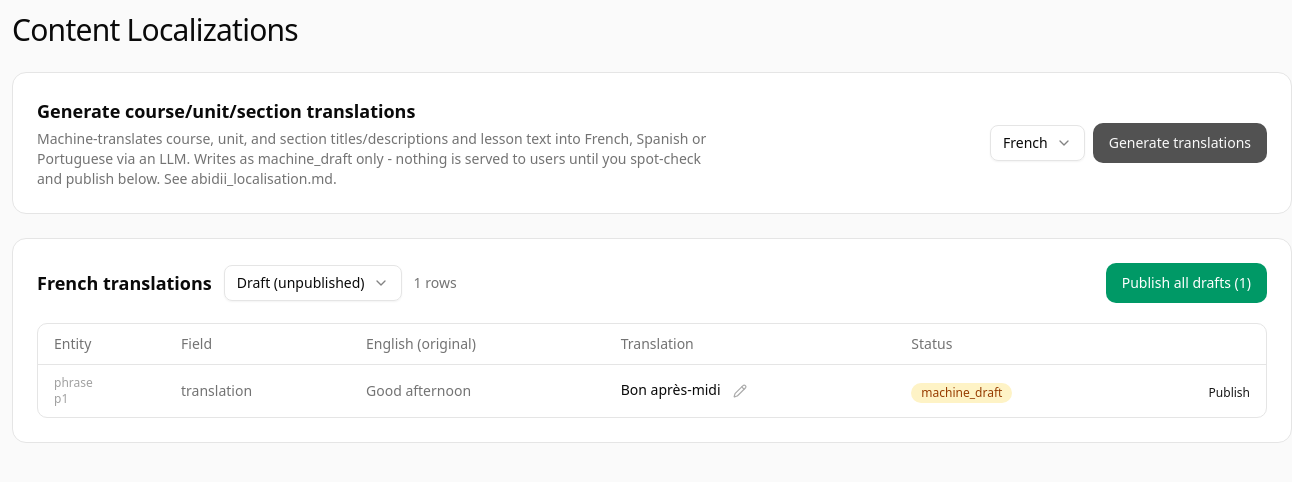
Scenario: edits a translation in place and keeps the row visible as reviewed
This screenshot has width=1292, height=482.
Expected: the text "Good afternoon" is shown, [350,364,605,417]
Click the button named "Edit translation".
click(740, 391)  # box [729,380,751,402]
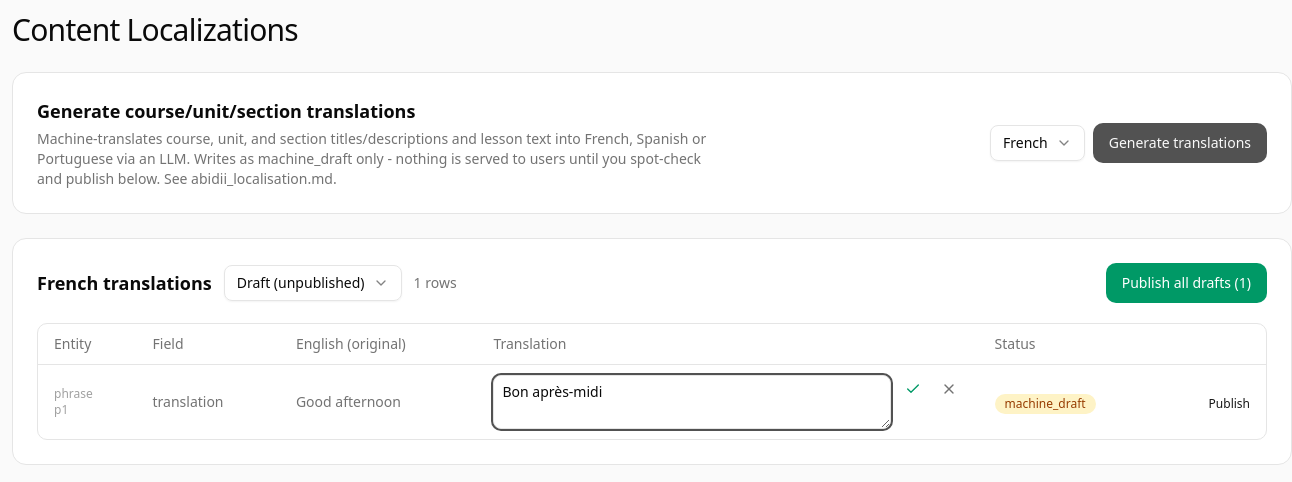
Replace the text in the text box named "Edit translation" with "Bonjour" at point(692, 402), box [493,375,890,429]
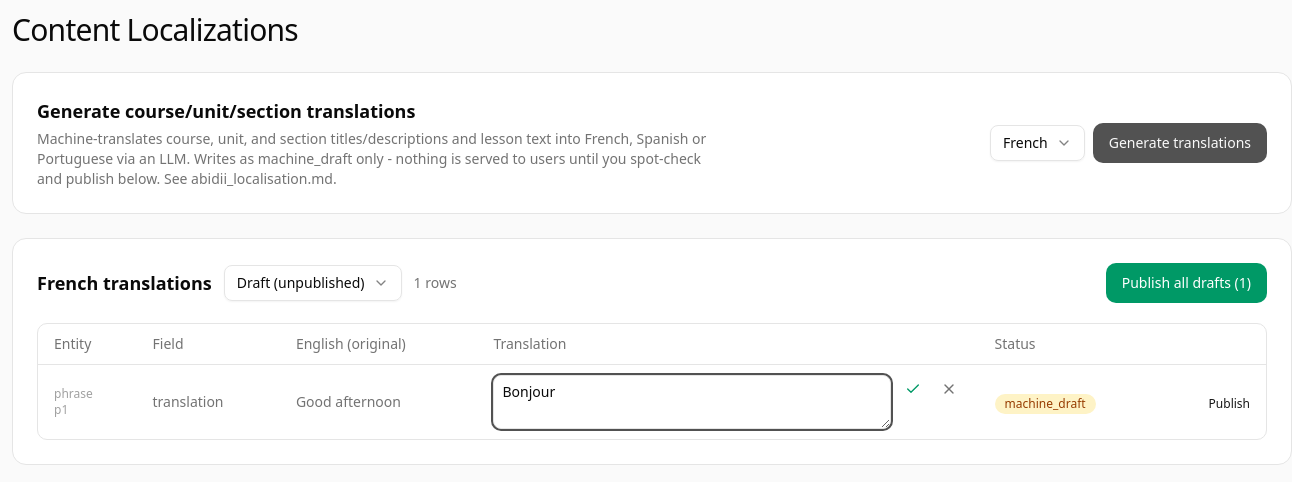
Click the button named "Save translation".
click(913, 389)  # box [899,375,927,403]
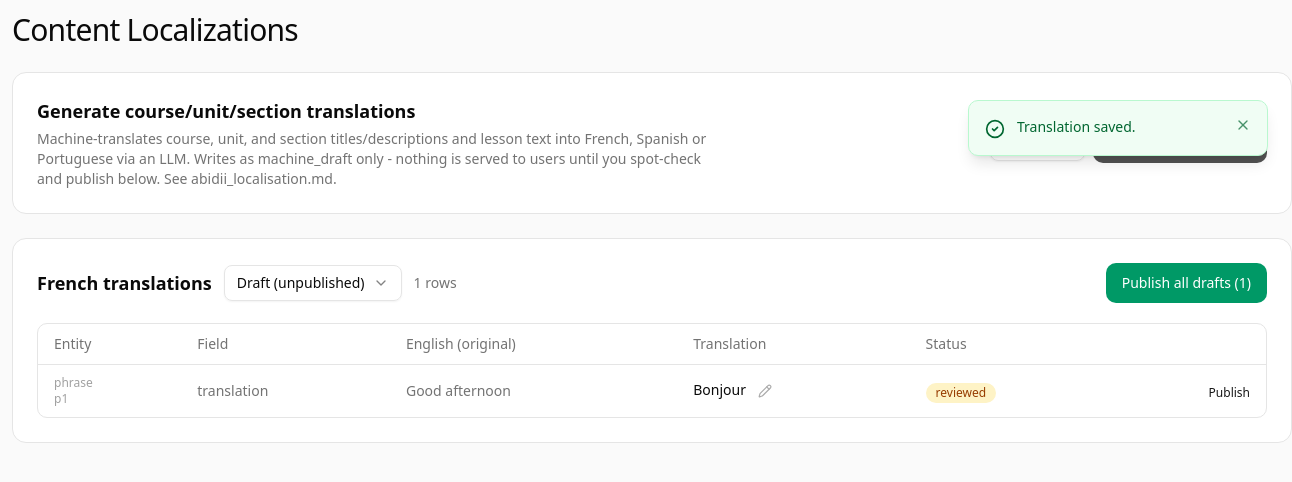
Expected: the text "Bonjour" is shown, [693,380,746,400]
Expected: the text "reviewed" is shown, [926,383,996,403]
